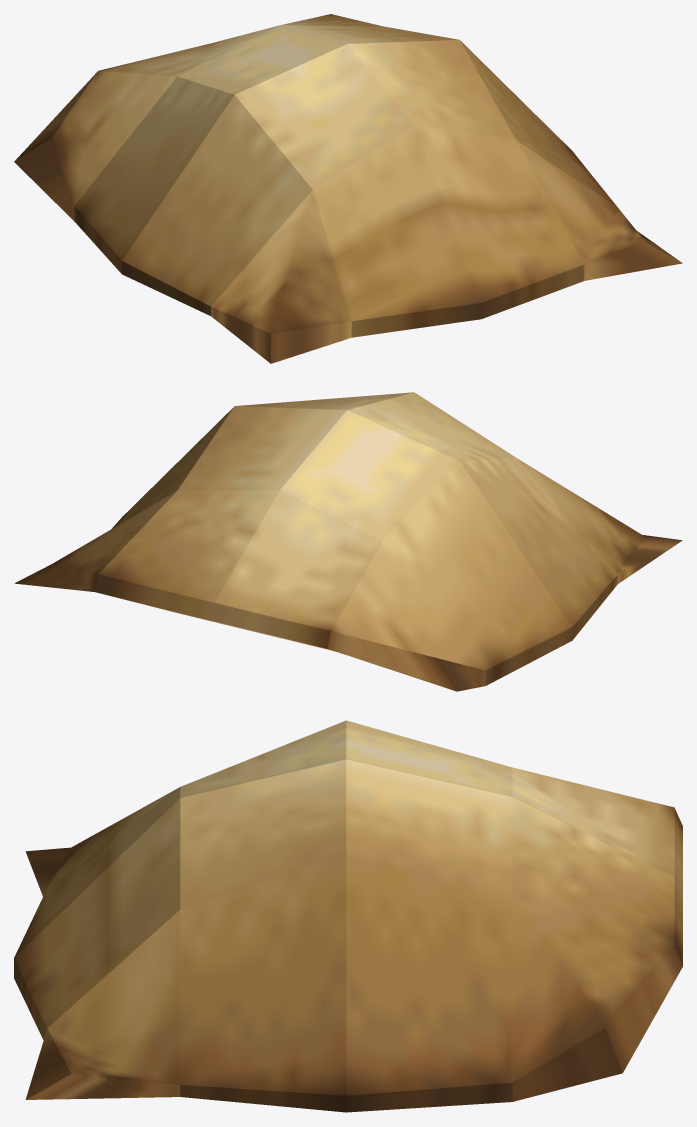
The model's file is Inside_Poly_Bag_01.obj.
3 views of the same model, one above another, from view 1: azimuth 30°, elevation 25°; view 2: azimuth 150°, elevation 25°; view 3: azimuth 270°, elevation 25° (orthographic). The views are drawn at different scales.
Visible parts, largest first — view 1: Cube; view 2: Cube; view 3: Cube.
Boxes of the visible parts, x1,y1,x2,y2 form: Cube: (14, 14, 682, 363); Cube: (14, 392, 682, 691); Cube: (14, 720, 682, 1112).
Bounding box in the file's own units: 0.8071 × 0.3266 × 0.8394.
Materials: 1 (1 with a texture image).
